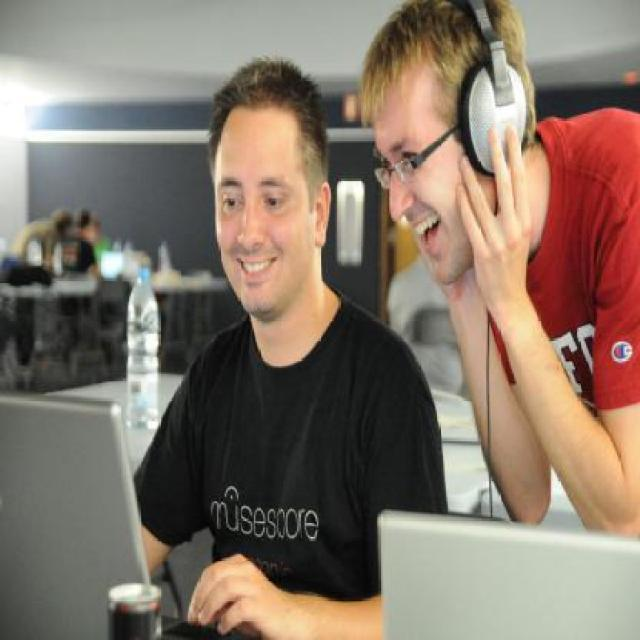earphone: (436, 0, 544, 181)
laptop_computer: (293, 461, 640, 639), (0, 365, 195, 640)
